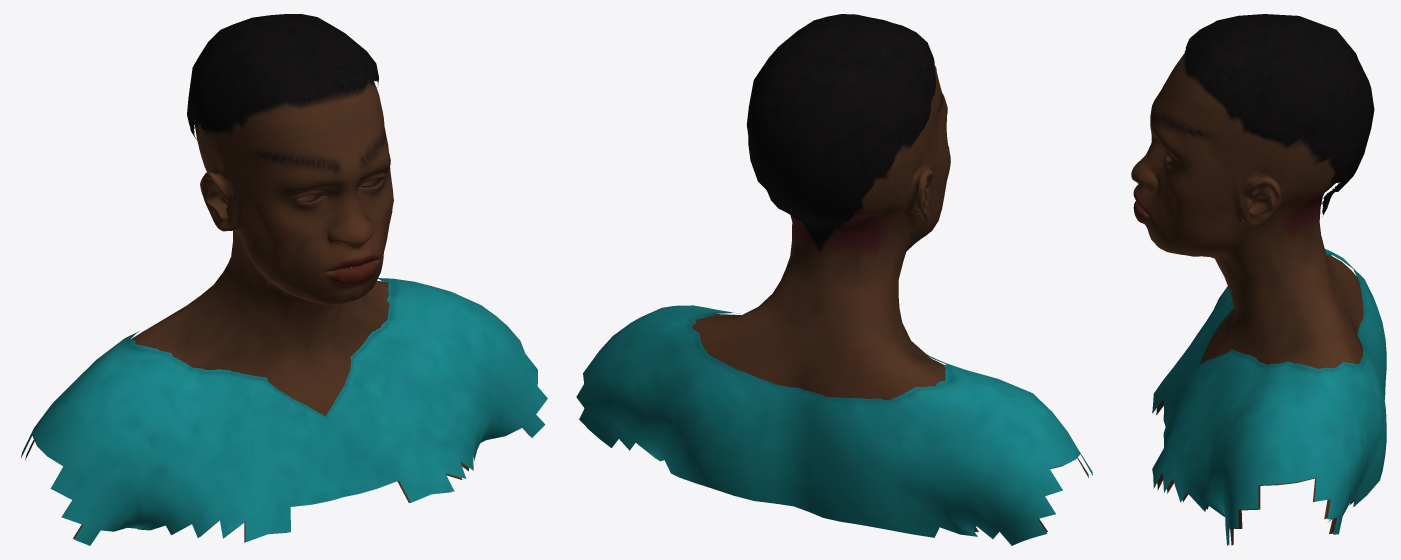
The model's file is ruth.glb.
3 views of the same model, side by side, from view 1: azimuth 30°, elevation 25°; view 2: azimuth 150°, elevation 25°; view 3: azimuth 270°, elevation 25° (orthographic). The views are drawn at different scales.
Parts seen in each view (by area): view 1: shirt, head, hair; view 2: shirt, head, hair; view 3: head, shirt, hair.
Part boxes in pixels (left/top/right/bottom): shirt: left=21, top=278, right=547, bottom=545; head: left=25, top=80, right=529, bottom=542; hair: left=187, top=14, right=378, bottom=139; shirt: left=576, top=305, right=1092, bottom=545; head: left=692, top=65, right=1088, bottom=532; hair: left=746, top=14, right=936, bottom=251; head: left=1131, top=52, right=1363, bottom=545; shirt: left=1152, top=249, right=1386, bottom=545; hair: left=1184, top=14, right=1374, bottom=216.
Size of the model in its own units: 4.65 by 4.12 by 2.25.
Materials: 5 (3 with a texture image).
